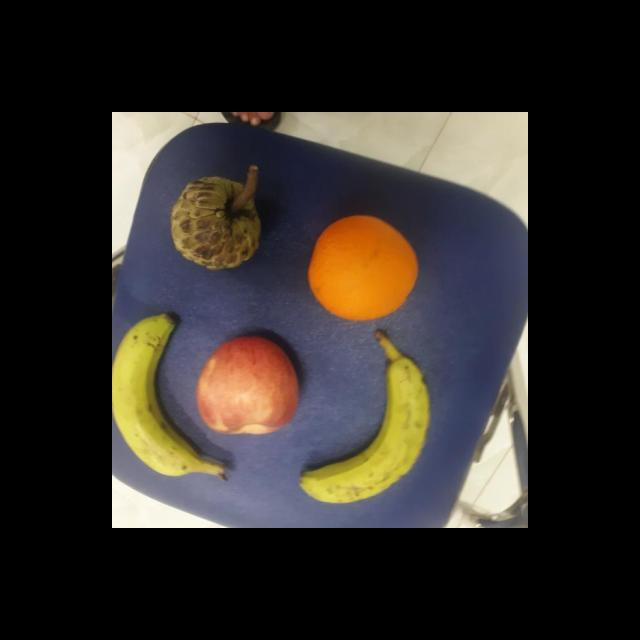Sakya fruit: (168, 171, 266, 271)
apple: (194, 332, 300, 439)
banana: (112, 312, 206, 482)
guava: (296, 358, 434, 508)
orange: (307, 214, 418, 324)
